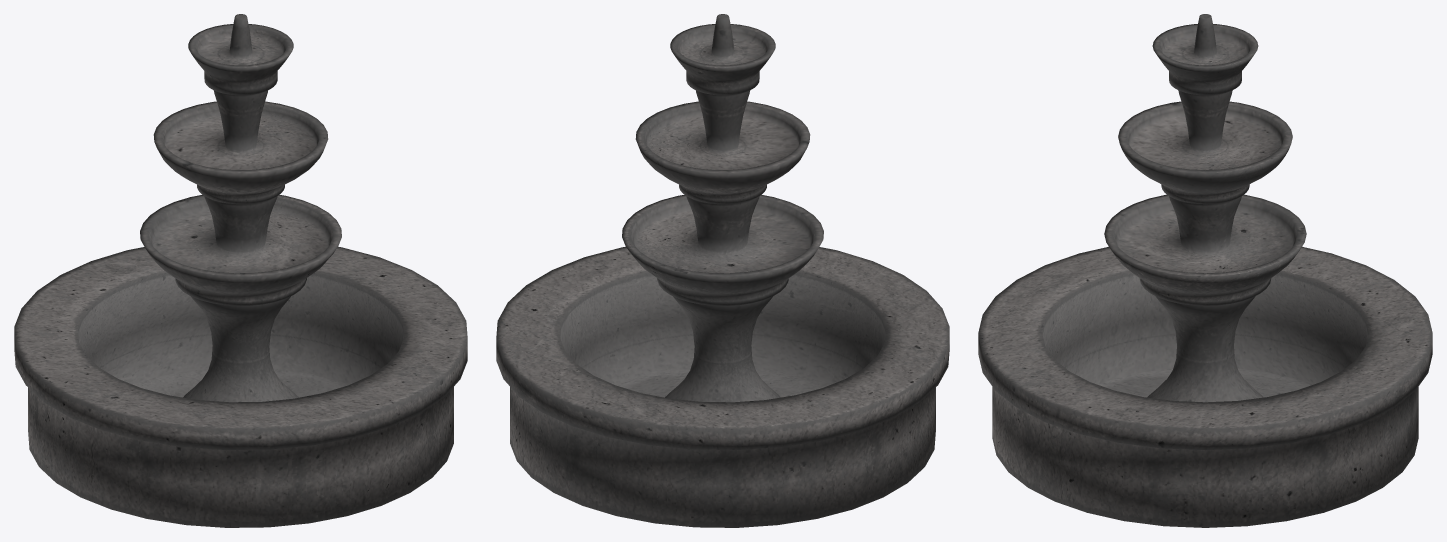
The model's file is fountain.glb.
3 views of the same model, side by side, from view 1: azimuth 30°, elevation 25°; view 2: azimuth 150°, elevation 25°; view 3: azimuth 270°, elevation 25° (orthographic).
Visible parts, largest first — view 1: Fountain; view 2: Fountain; view 3: Fountain.
Part boxes in pixels (x1,y1,x2,y2): Fountain: [14, 14, 467, 527]; Fountain: [496, 14, 949, 527]; Fountain: [978, 14, 1432, 527].
Size of the model in its own units: 2.08 by 2.12 by 2.08.
1 material, 1 textured.
